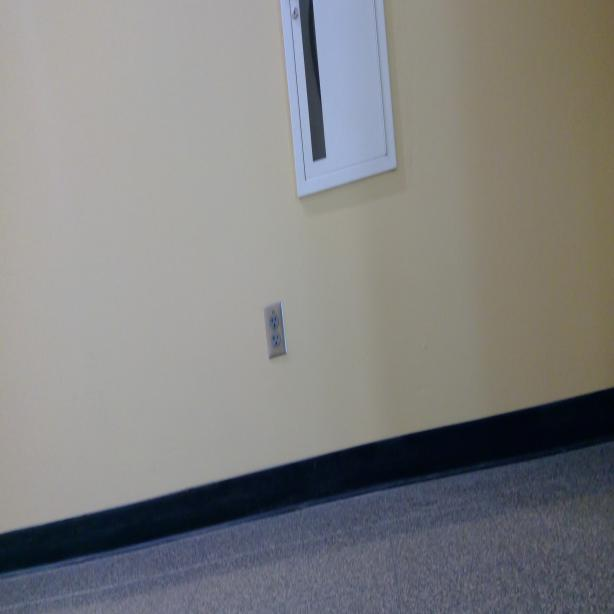typeb: (271, 332, 282, 349), (269, 314, 280, 329)
